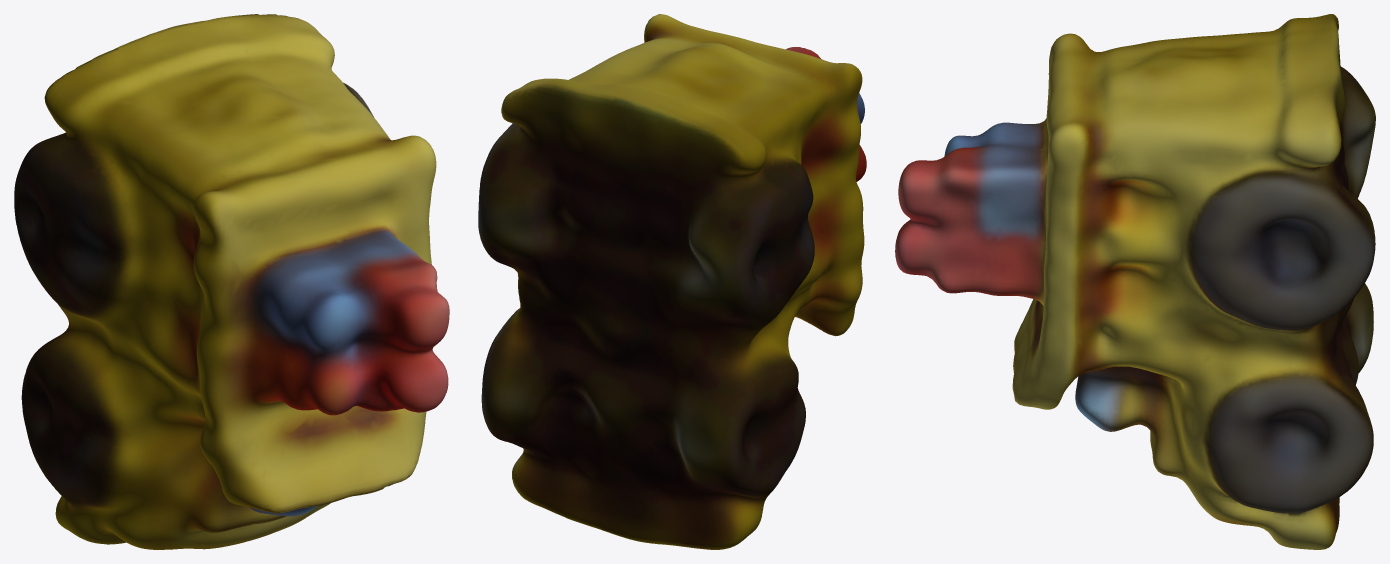
File: school_bus2.glb
3 renders of one model, left to right at view 1: azimuth 30°, elevation 25°; view 2: azimuth 150°, elevation 25°; view 3: azimuth 270°, elevation 25°, orthographic. The views are drawn at different scales.
Size of the model in its own units: 0.6646 by 0.9986 by 0.9417.
